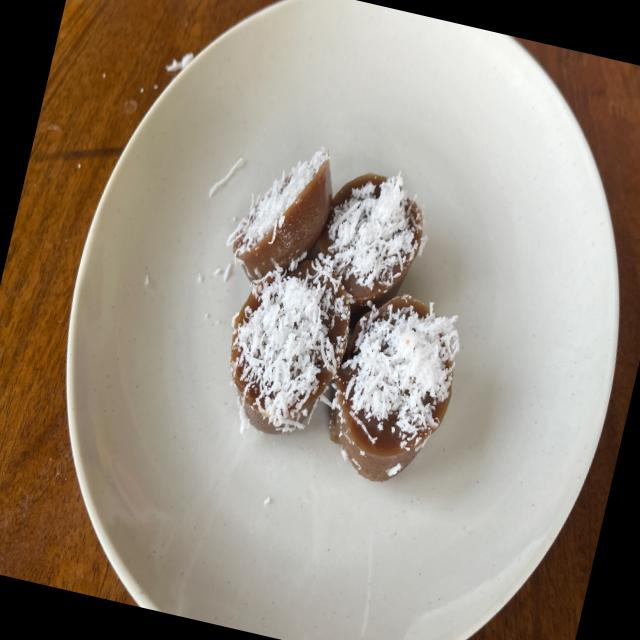Kuih lompang: (330, 294, 459, 481), (230, 259, 350, 433), (319, 174, 422, 327), (226, 147, 332, 280)
